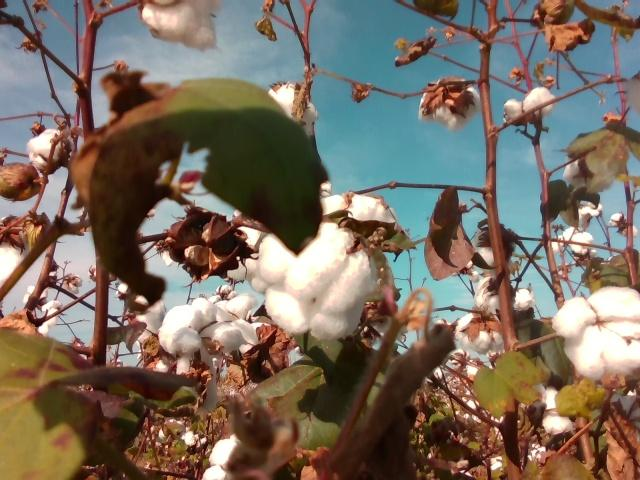cotton_ready: (260, 219, 379, 340), (552, 287, 640, 377), (159, 298, 245, 355), (154, 354, 220, 414), (144, 0, 219, 52), (418, 76, 484, 129), (219, 291, 265, 351), (269, 82, 319, 136), (115, 284, 164, 336), (226, 225, 264, 291), (563, 154, 614, 198), (474, 278, 532, 316), (322, 194, 396, 222), (203, 434, 246, 480), (504, 88, 554, 127), (456, 316, 506, 351), (472, 228, 511, 269), (27, 129, 61, 176), (541, 389, 576, 433), (0, 244, 24, 286)
